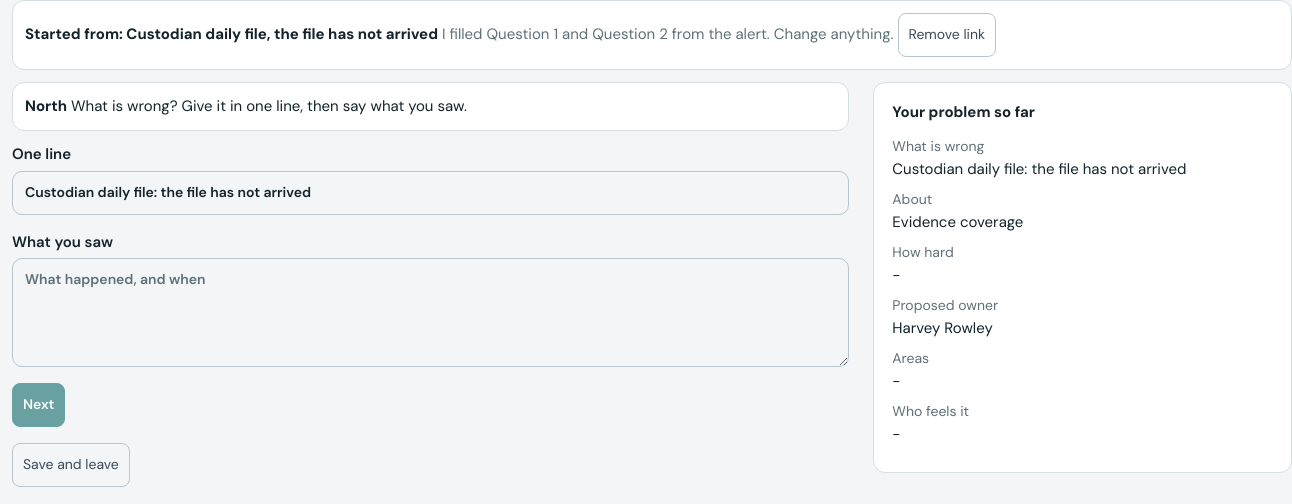
Test case: an Ops alert fills the first two questions and the origin banner can be removed
The width and height of the screenshot is (1292, 504).
Expected: the field showing "Custodian daily file: the file has not arrived" is shown, [12, 170, 849, 214]
Expected: the text "Started from: Custodian daily file, the file has not arrived" is shown, [25, 24, 438, 44]
Click the button "Remove link".
click(947, 35)  # box [898, 13, 996, 57]
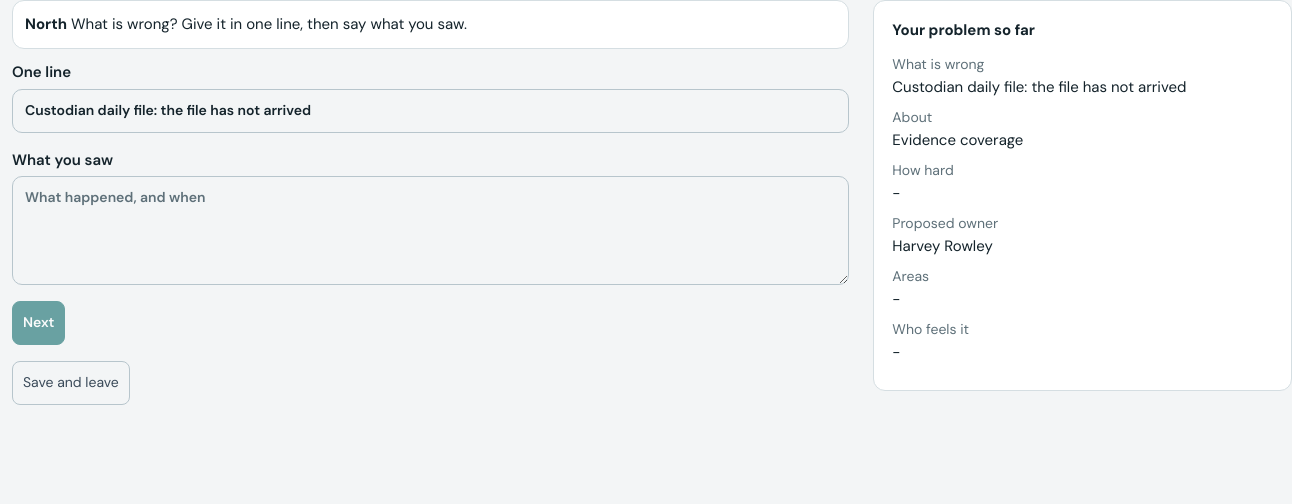
Result: the text "Started from: Custodian daily file" is gone
